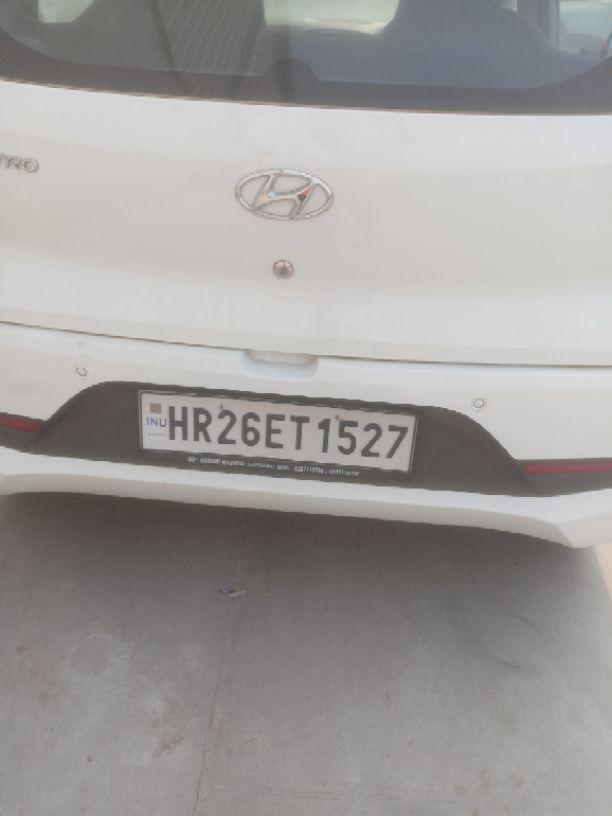license_plate: (136, 387, 420, 477)
